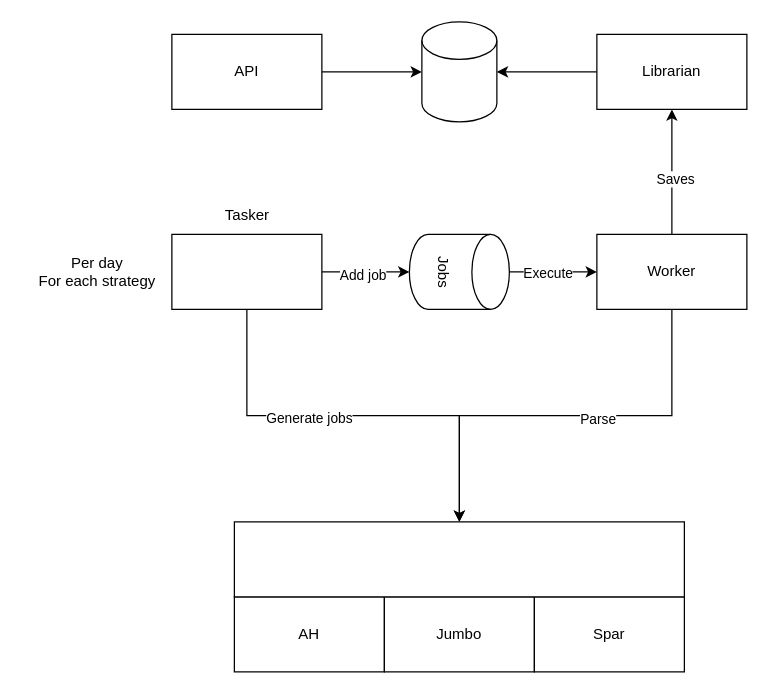
The diagram is 769 pixels wide and 694 high, and some of its shapes have lost their labels. The box of each missing label's shape, as (x1, y1, x2, y2) in pixels:
DB: (421, 21, 497, 122)
Distributor: (171, 233, 322, 309)
Strategies: (233, 521, 684, 597)
